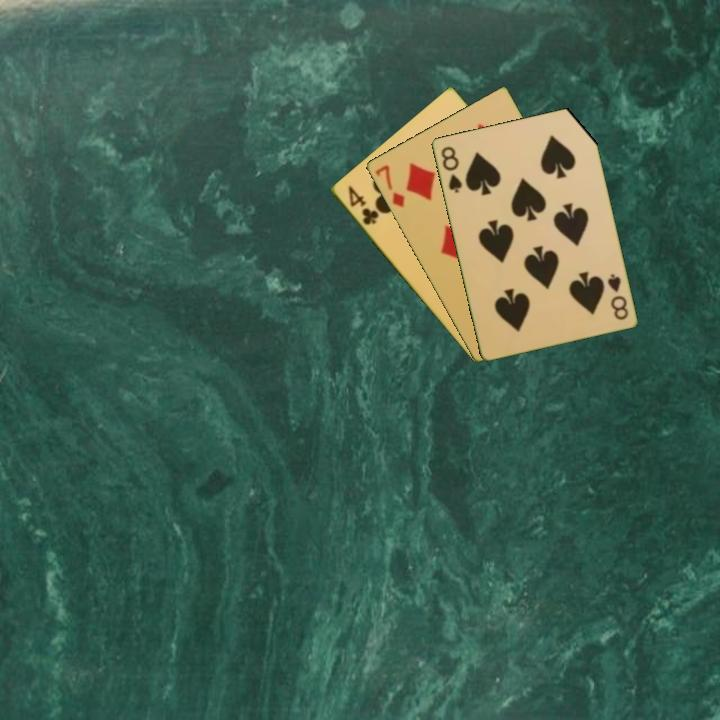4c: (344, 182, 381, 228)
7d: (371, 161, 407, 211)
8s: (437, 143, 465, 196), (603, 270, 631, 323)
